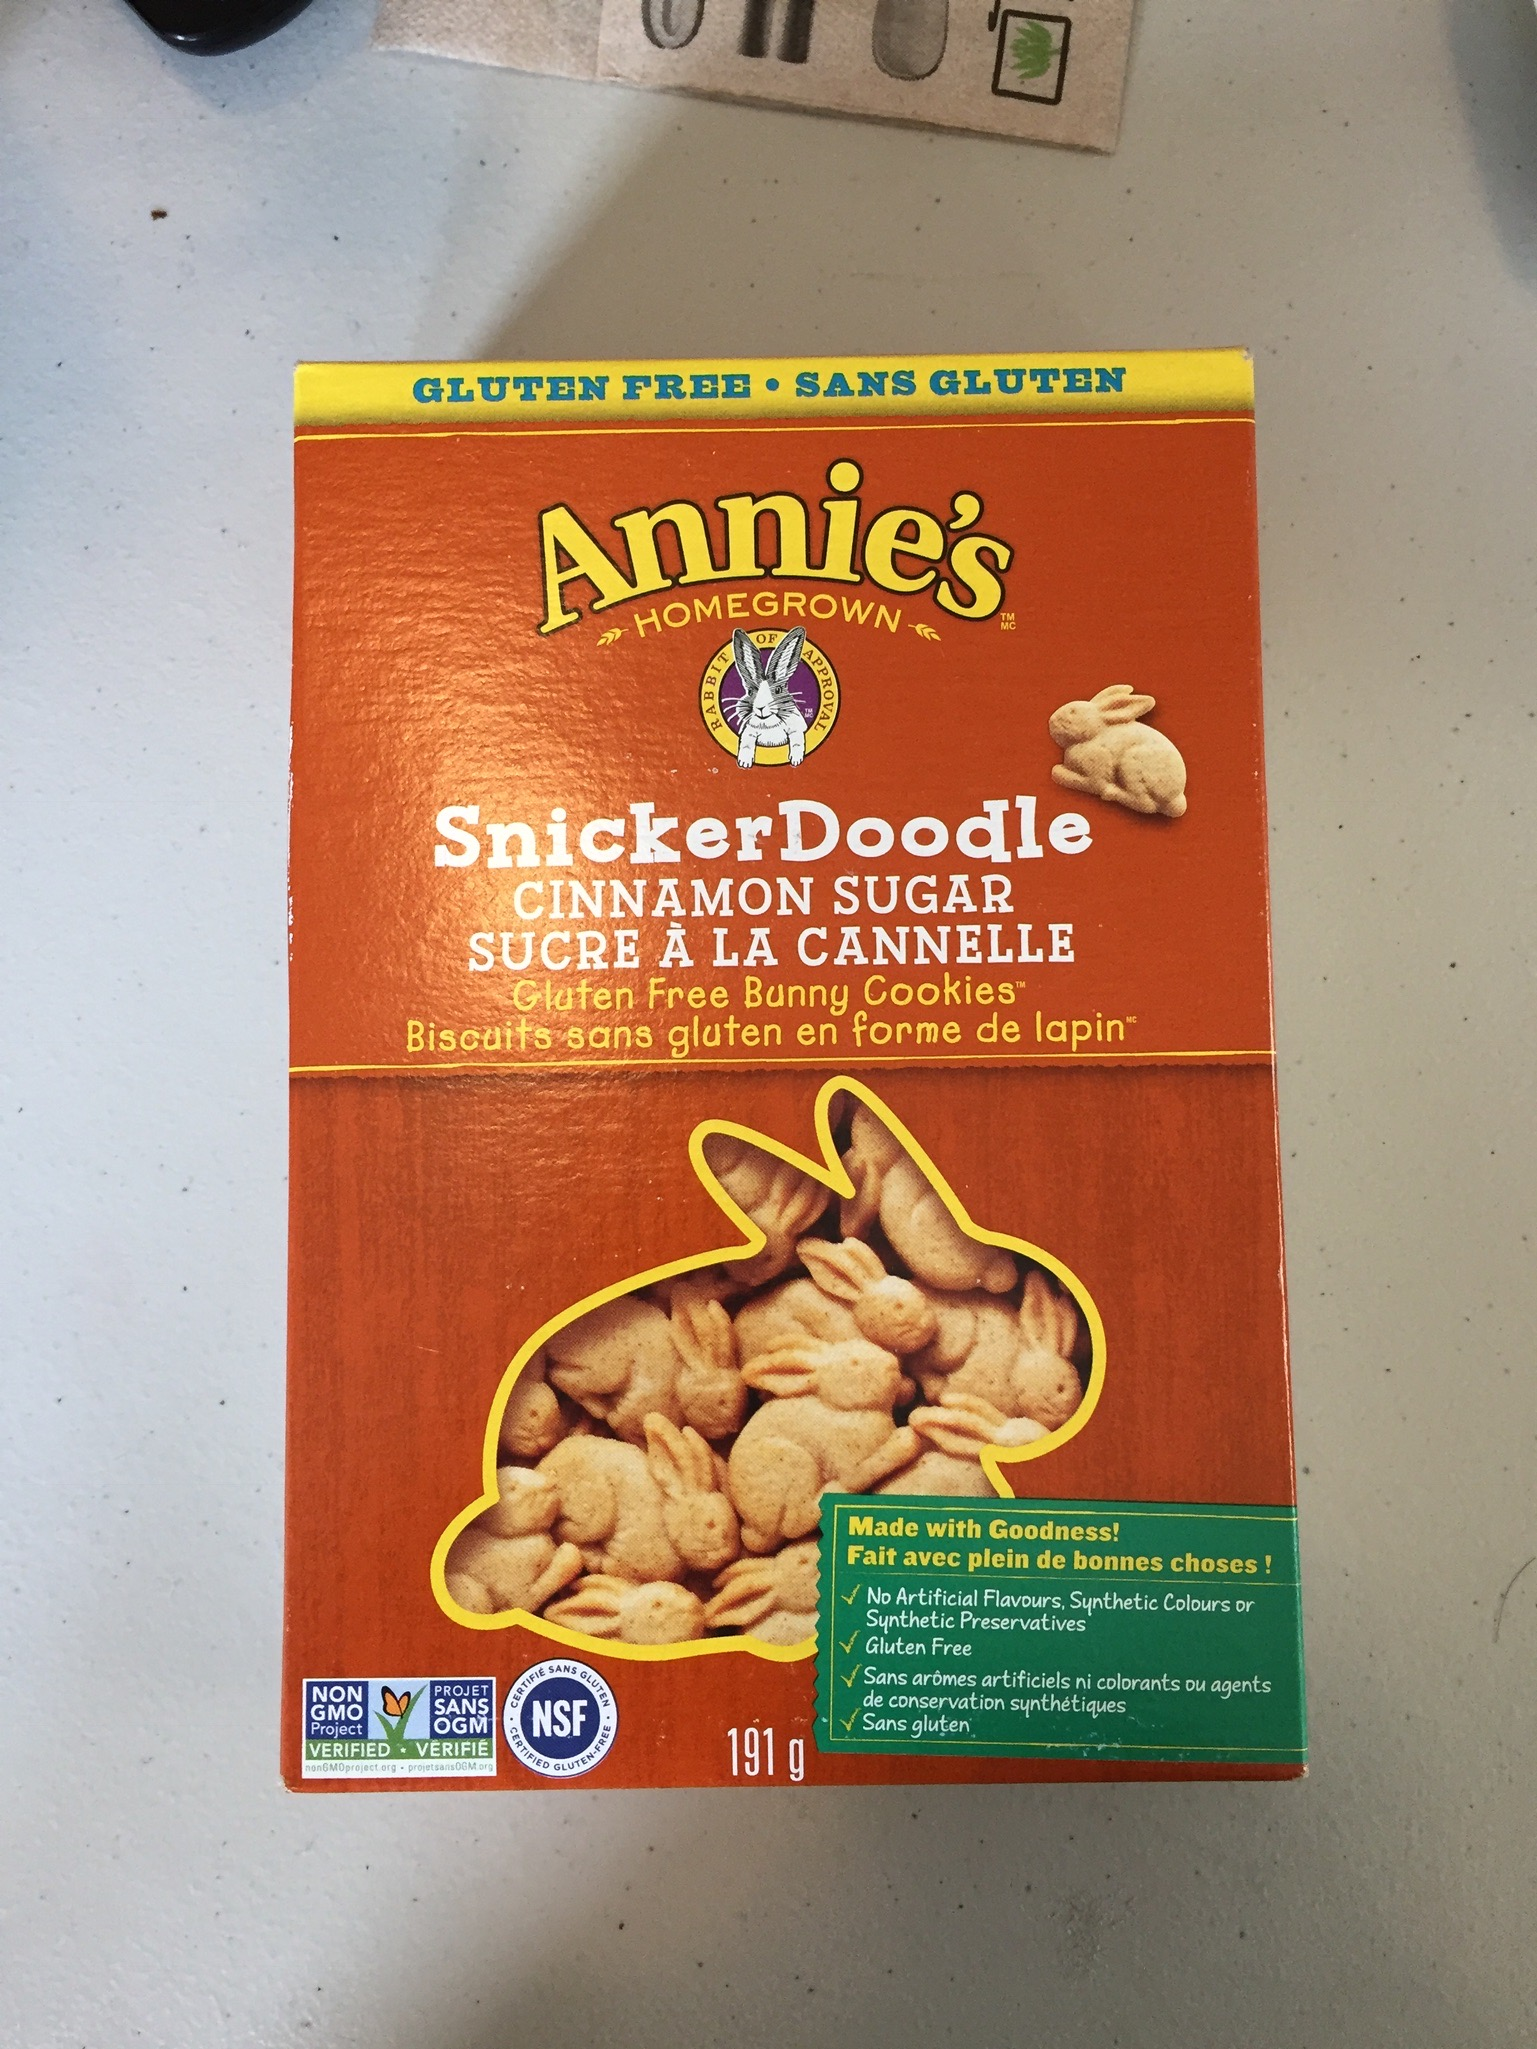annies_snickerdoodles_cinnamon_sugar: (313, 373, 1285, 1768)
